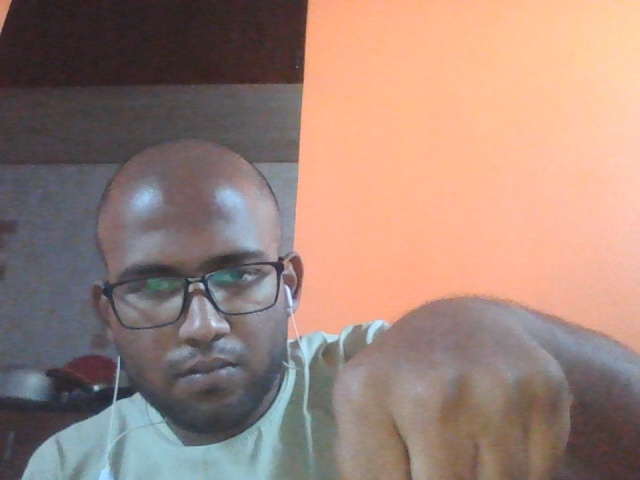yes: (305, 267, 591, 478)
